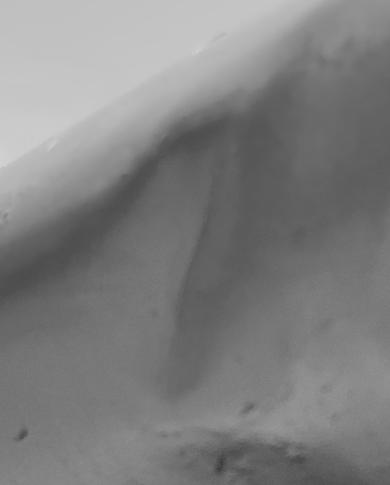dent: (0, 1, 390, 485)
